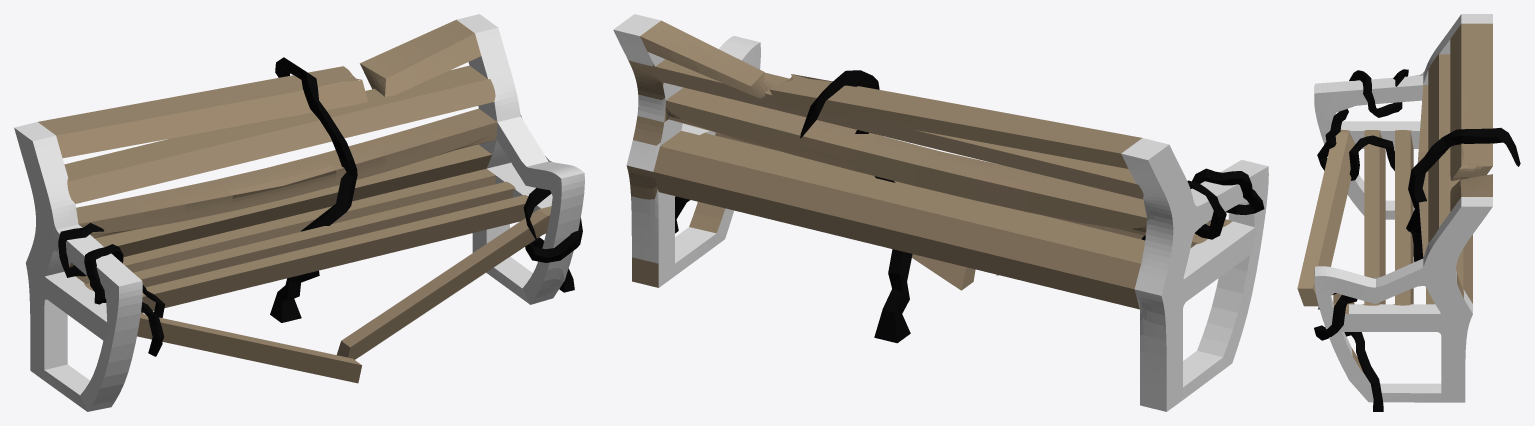
The model's file is bench.glb.
3 views of the same model, side by side, from view 1: azimuth 30°, elevation 25°; view 2: azimuth 150°, elevation 25°; view 3: azimuth 270°, elevation 25° (orthographic). The views are drawn at different scales.
Parts seen in each view (by area): view 1: bench; view 2: bench; view 3: bench.
Part boxes in pixels (x1,y1,x2,y2): bench: [14, 14, 584, 411]; bench: [613, 14, 1268, 411]; bench: [1297, 14, 1520, 411].
Bounding box in the file's own units: 2.27 × 0.9996 × 1.03.
